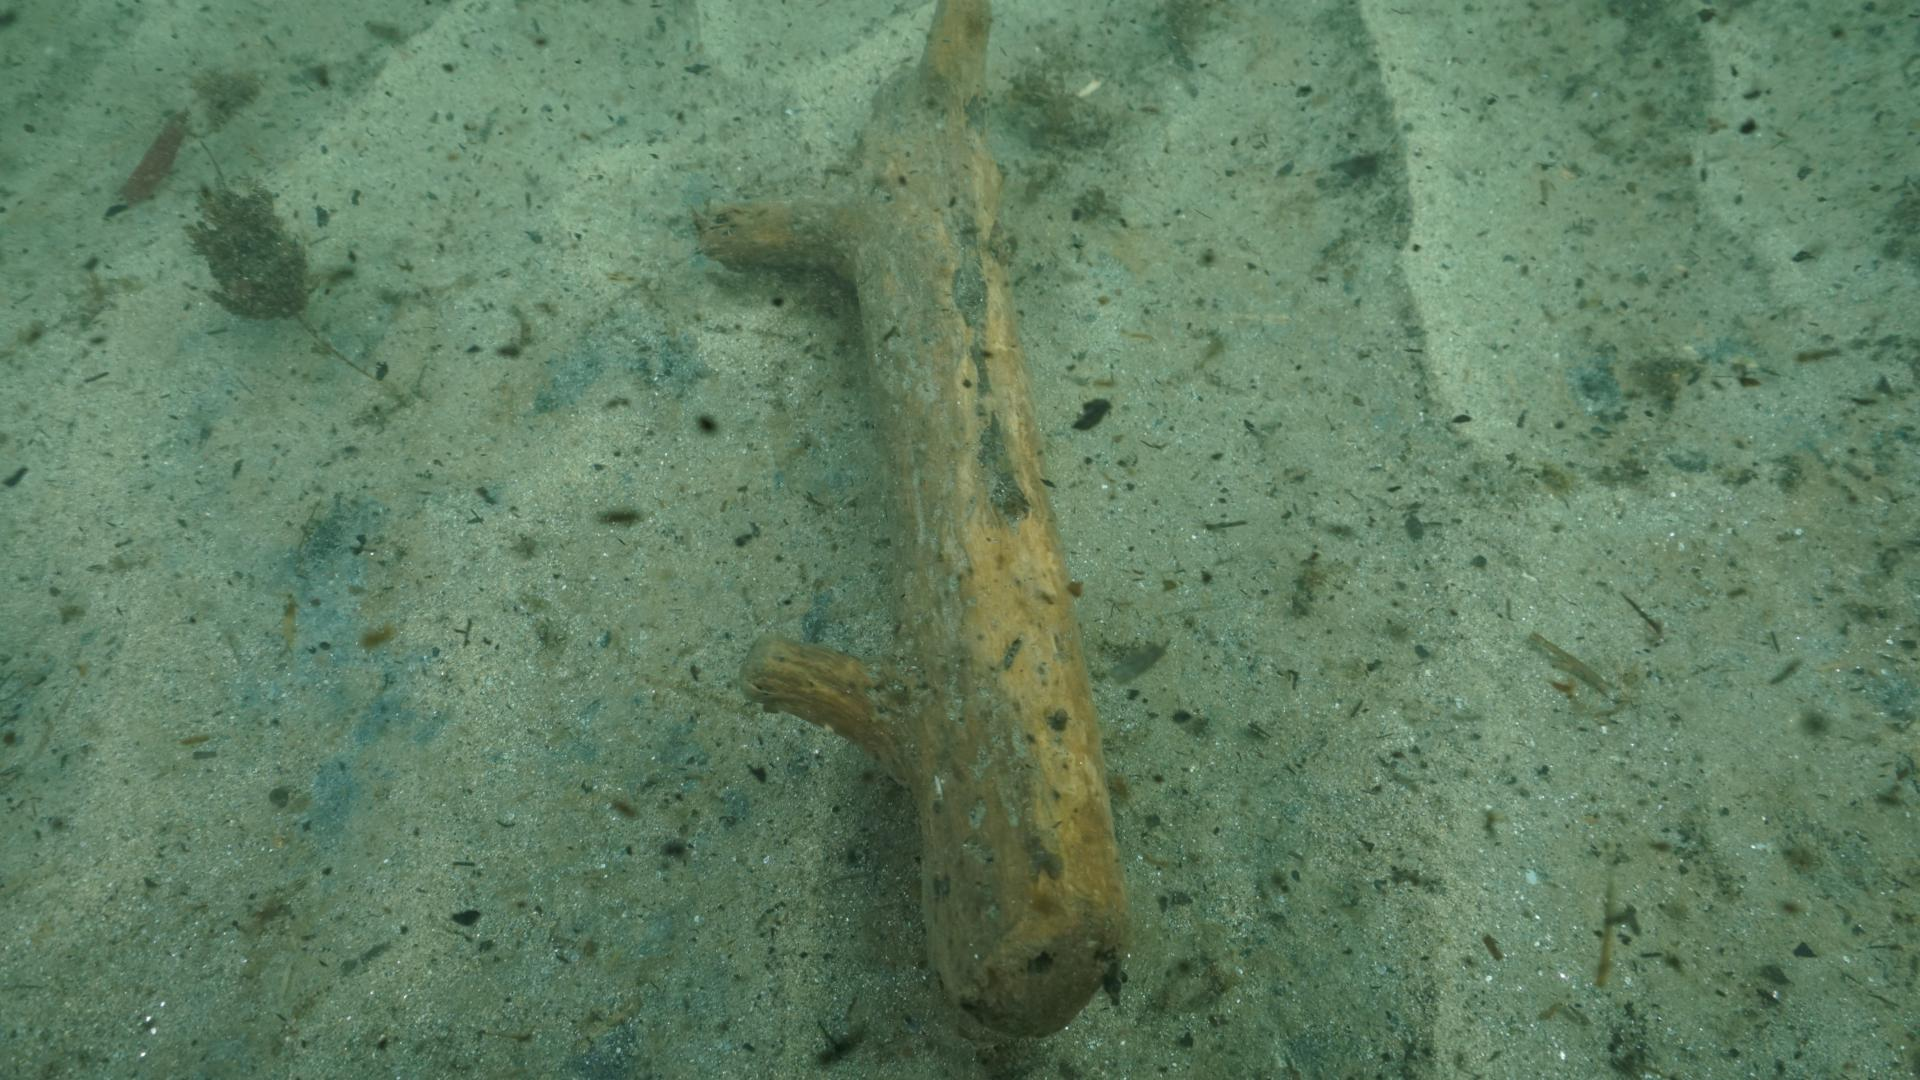wood: (694, 0, 1125, 1033)
